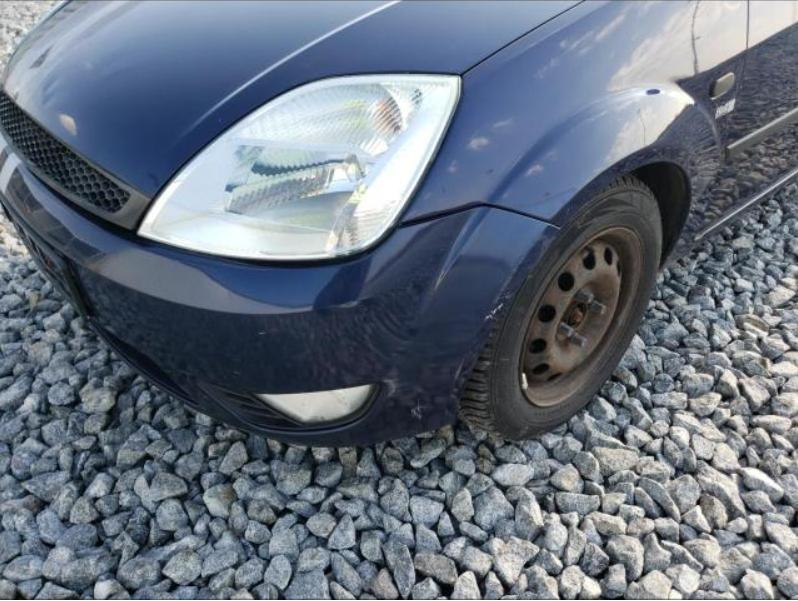Fender: (400, 0, 748, 269)
Front-bumper: (0, 130, 560, 447)
Front-door: (695, 1, 798, 234)
Front-wheel: (458, 175, 662, 440)
Grille: (0, 87, 152, 232)
Headlight: (136, 73, 462, 263)
Hood: (1, 0, 582, 198)
License-plate: (5, 197, 91, 320)
Rocker-panel: (690, 171, 798, 249)
